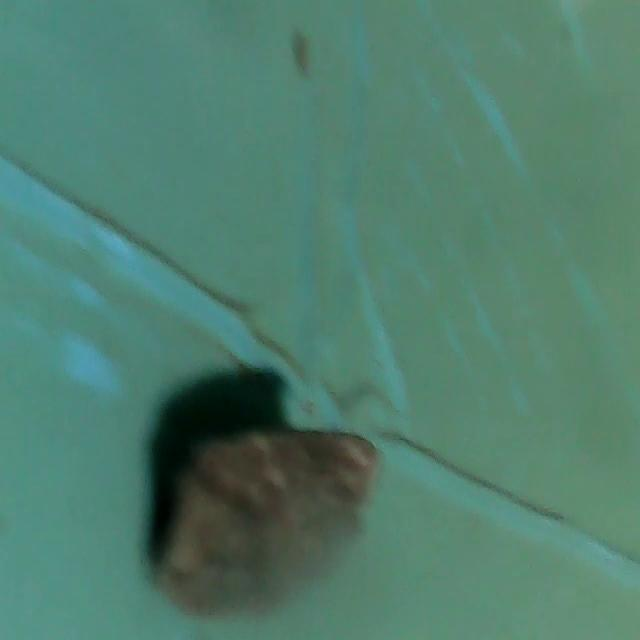rock: (154, 407, 386, 626)
